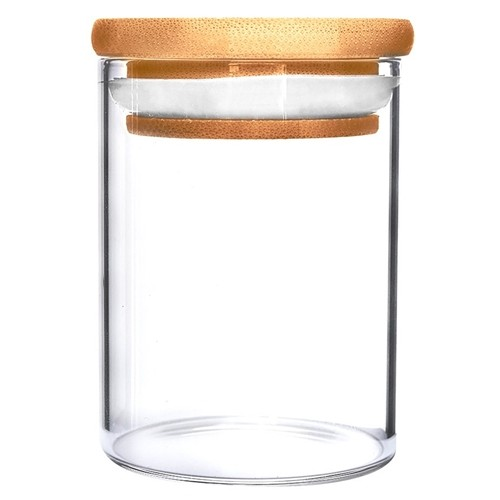Rec_Glass: (60, 4, 430, 489)
